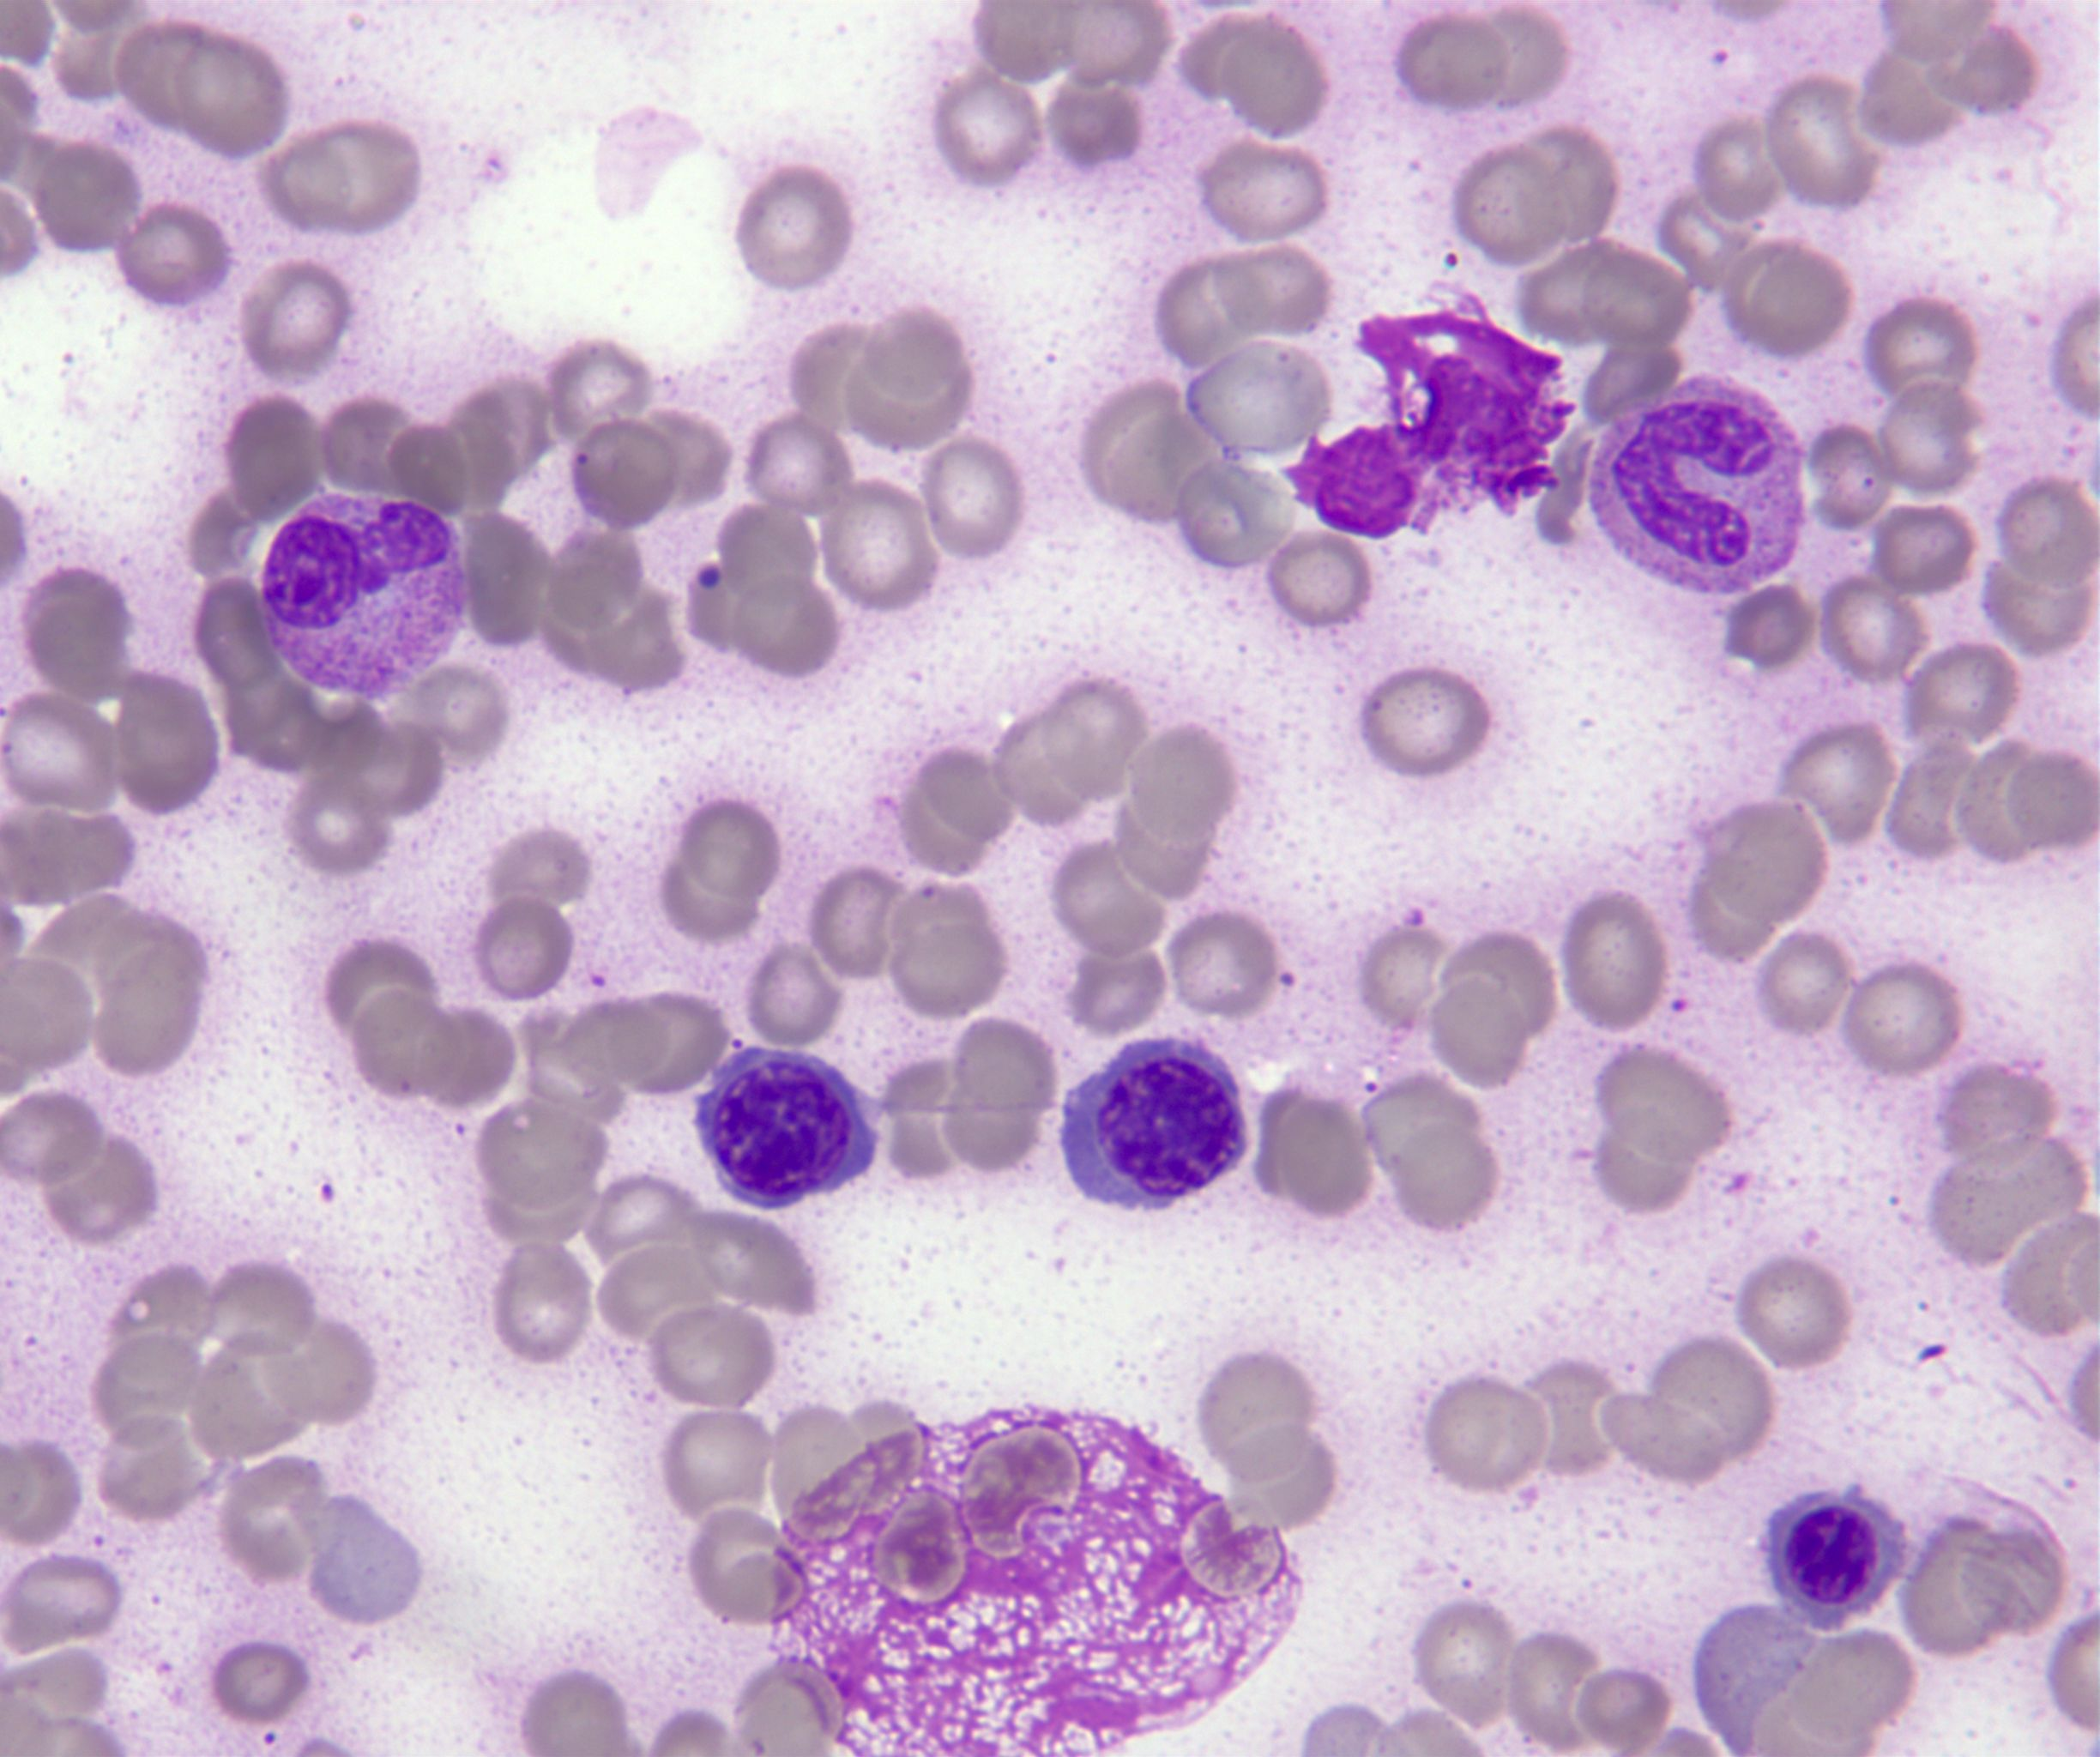22: (1062, 1038, 1247, 1209), (692, 1047, 879, 1209), (1765, 1494, 1903, 1631)
5: (1592, 375, 1807, 595)
6: (260, 494, 464, 701)
x: (771, 1408, 1301, 1757), (1282, 311, 1575, 536)
